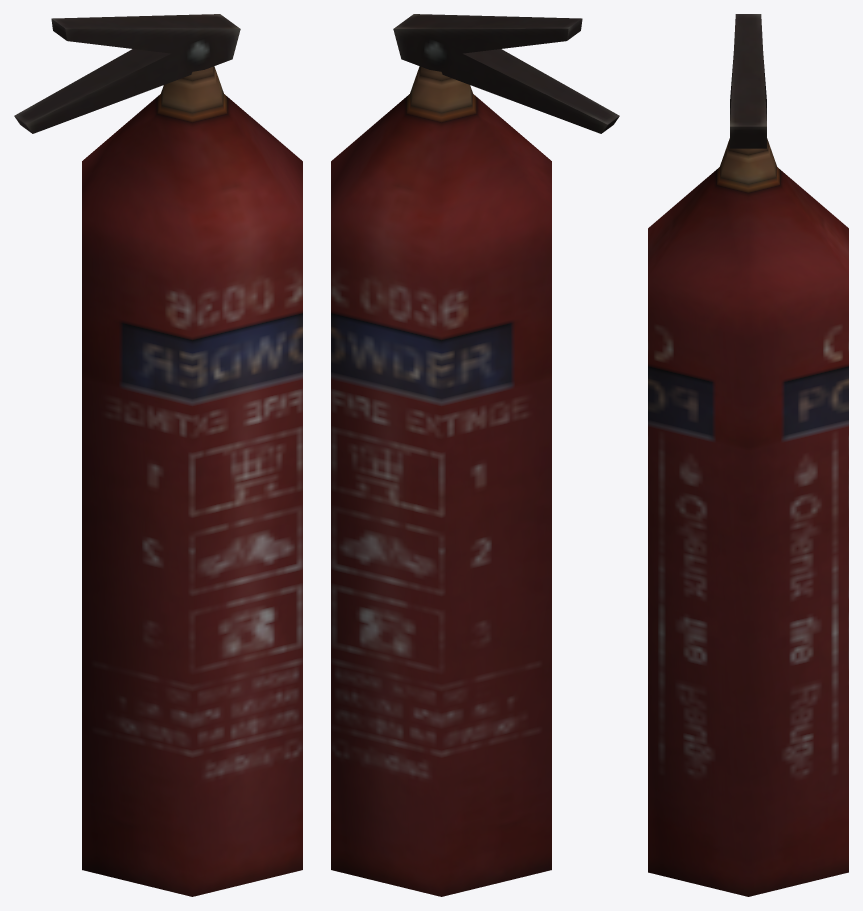
Rendered from Stage-gongchang-meihuoqi.FBX.
3 renders of one model, left to right at view 1: azimuth 30°, elevation 25°; view 2: azimuth 150°, elevation 25°; view 3: azimuth 270°, elevation 25°, orthographic. The views are drawn at different scales.
Parts seen in each view (by area): view 1: Object72; view 2: Object72; view 3: Object72.
Boxes of the visible parts, x1=… form: Object72: x1=14, y1=14, x2=302, y2=896; Object72: x1=331, y1=14, x2=619, y2=896; Object72: x1=648, y1=14, x2=848, y2=896.
Bounding box in the file's own units: 0.6744 × 0.4565 × 1.94.
